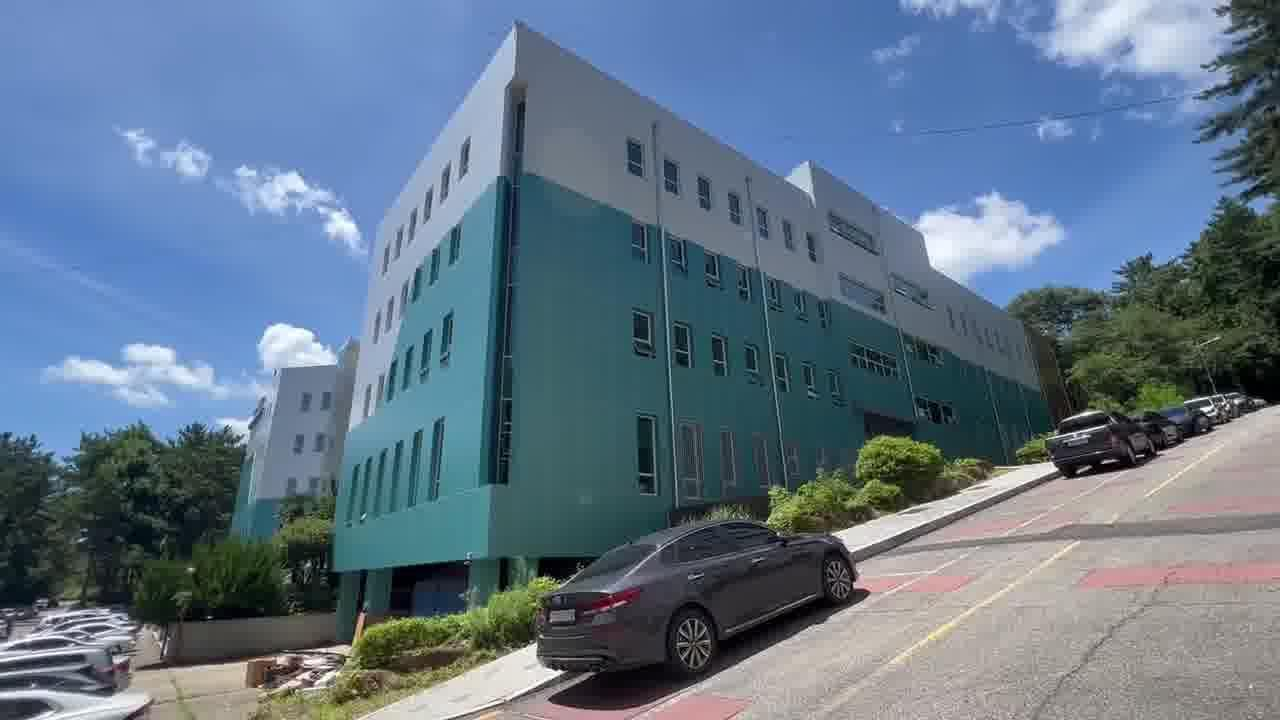building: (313, 26, 799, 513)
